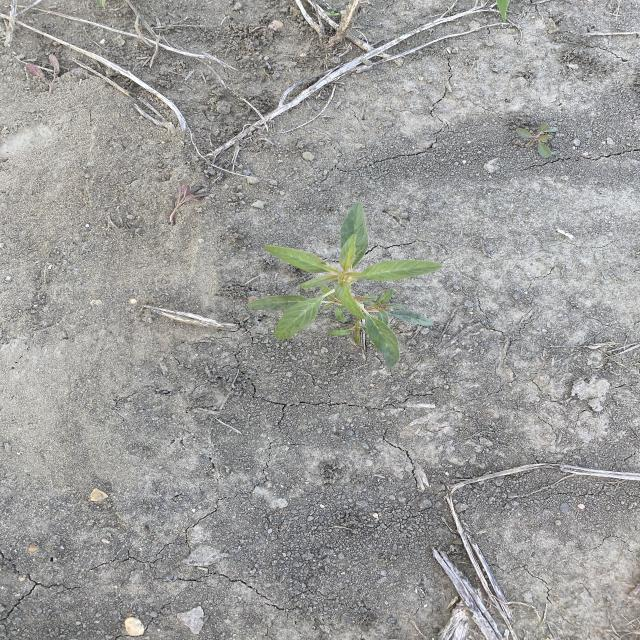Waterhemp: (243, 200, 447, 372), (514, 119, 559, 160)
